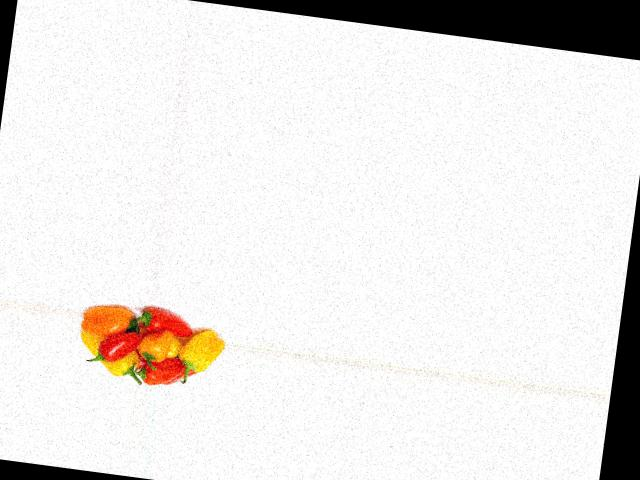bell_pepper: (76, 330, 142, 382)
